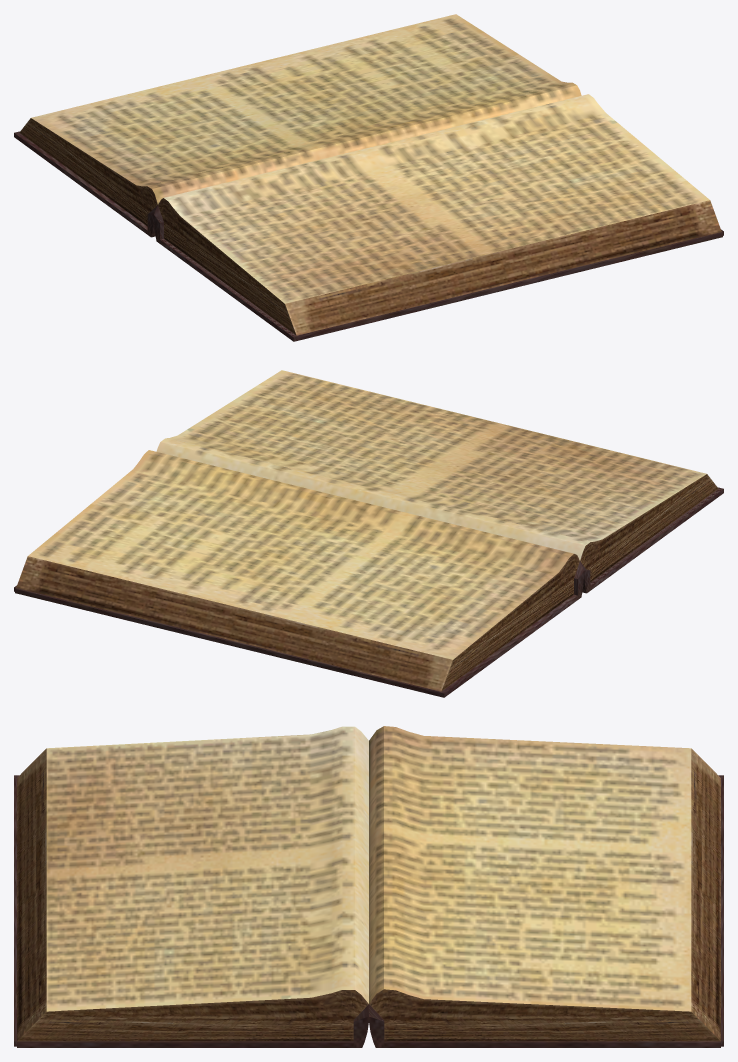
The model's file is Prop_Book_OpenD.fbx.
3 renders of one model, top to bottom at view 1: azimuth 30°, elevation 25°; view 2: azimuth 150°, elevation 25°; view 3: azimuth 270°, elevation 25°, orthographic. The views are drawn at different scales.
Visible parts, largest first — view 1: Cube_033; view 2: Cube_033; view 3: Cube_033.
Boxes of the visible parts, left/top/right/bottom form: Cube_033: left=14, top=14, right=723, bottom=341; Cube_033: left=14, top=370, right=723, bottom=697; Cube_033: left=14, top=726, right=723, bottom=1047.
Size of the model in its own units: 1.32 by 0.1318 by 1.48.
